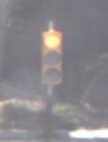Red: (38, 26, 65, 90)
